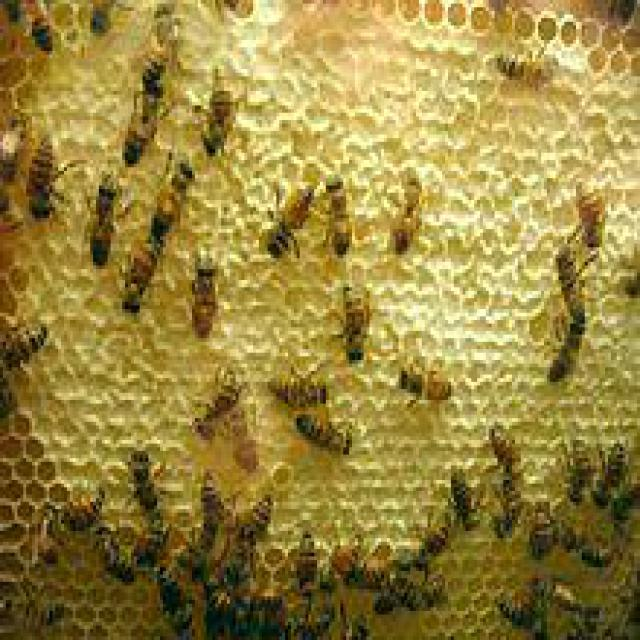Abeille: (22, 123, 77, 223), (266, 175, 322, 259), (543, 313, 598, 395), (119, 78, 169, 166), (149, 145, 193, 239), (392, 164, 433, 258), (570, 178, 618, 258), (56, 474, 114, 540), (318, 167, 359, 250), (498, 43, 562, 95), (128, 436, 174, 507), (196, 468, 236, 548), (445, 458, 487, 530), (89, 166, 121, 255), (341, 284, 375, 364), (397, 357, 453, 404), (270, 365, 329, 409), (188, 258, 219, 332), (296, 528, 324, 586)
